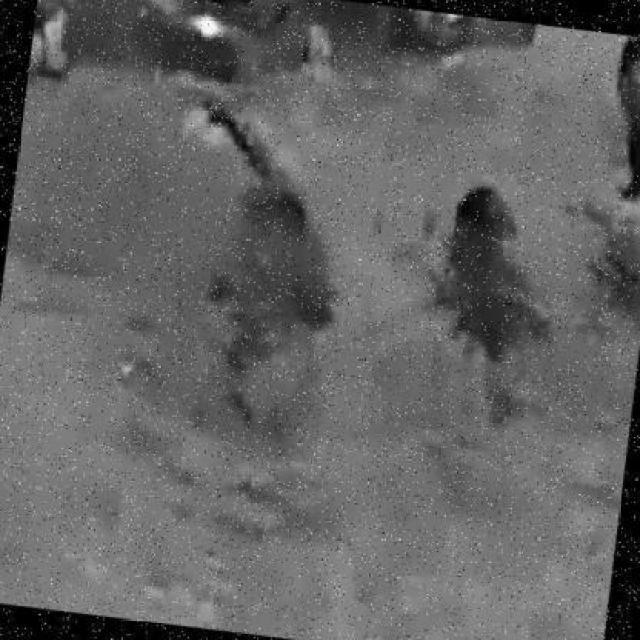drowning: (449, 195, 513, 332), (615, 50, 640, 285)
